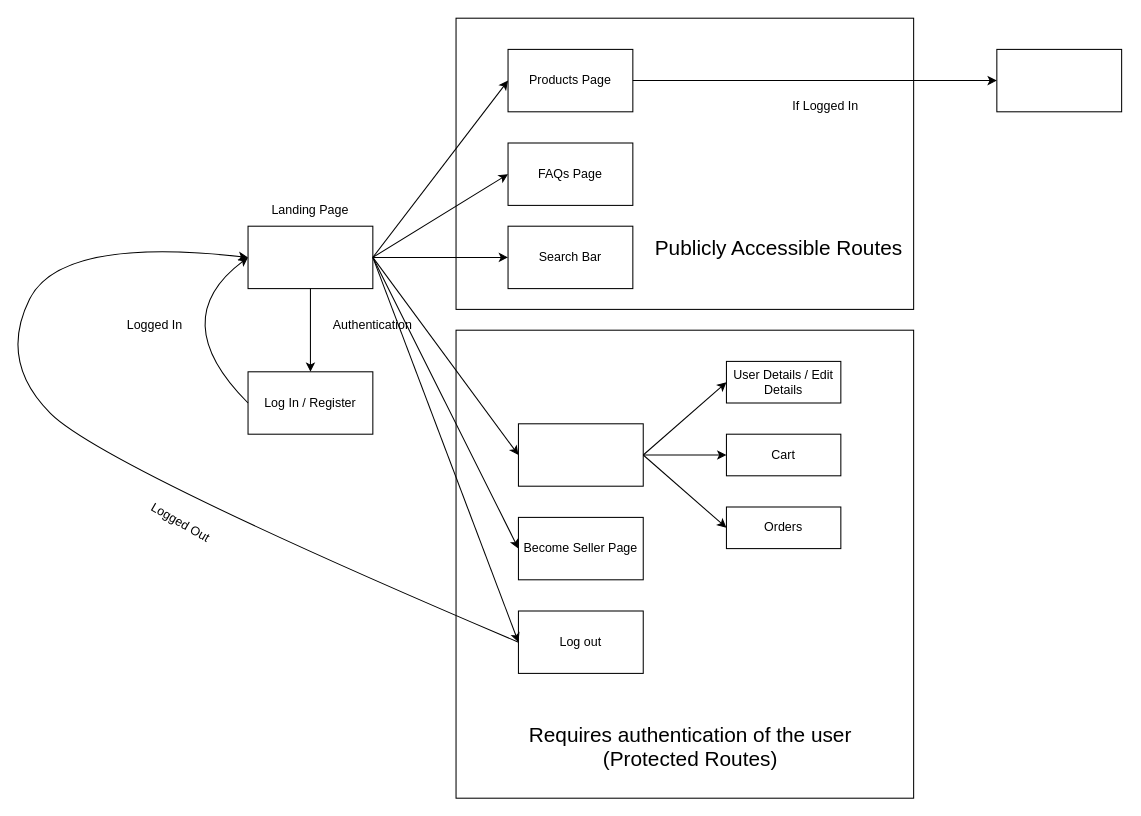
Image size: 1141x816. Some labels were removed from this diagram. The box of each missing label's shape, as (x1, y1, x2, y2) in pixels:
Add to Cart a specific Product: (996, 48, 1122, 112)
Dashboard: (247, 225, 373, 289)
Profile: (517, 423, 643, 486)
